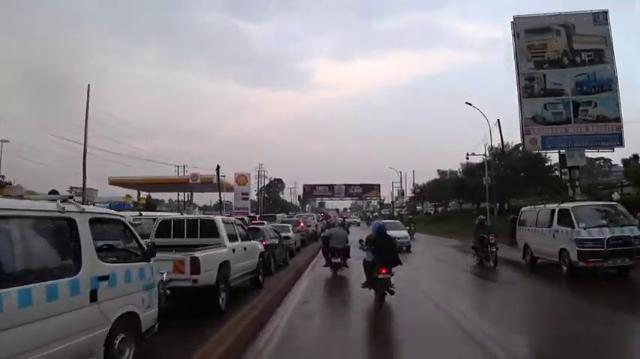car: (372, 219, 412, 253)
motorcycle: (359, 244, 398, 303), (470, 228, 500, 269), (322, 236, 349, 275)
pickup-truck: (144, 213, 267, 314)
van: (0, 200, 160, 359), (513, 201, 639, 277)
